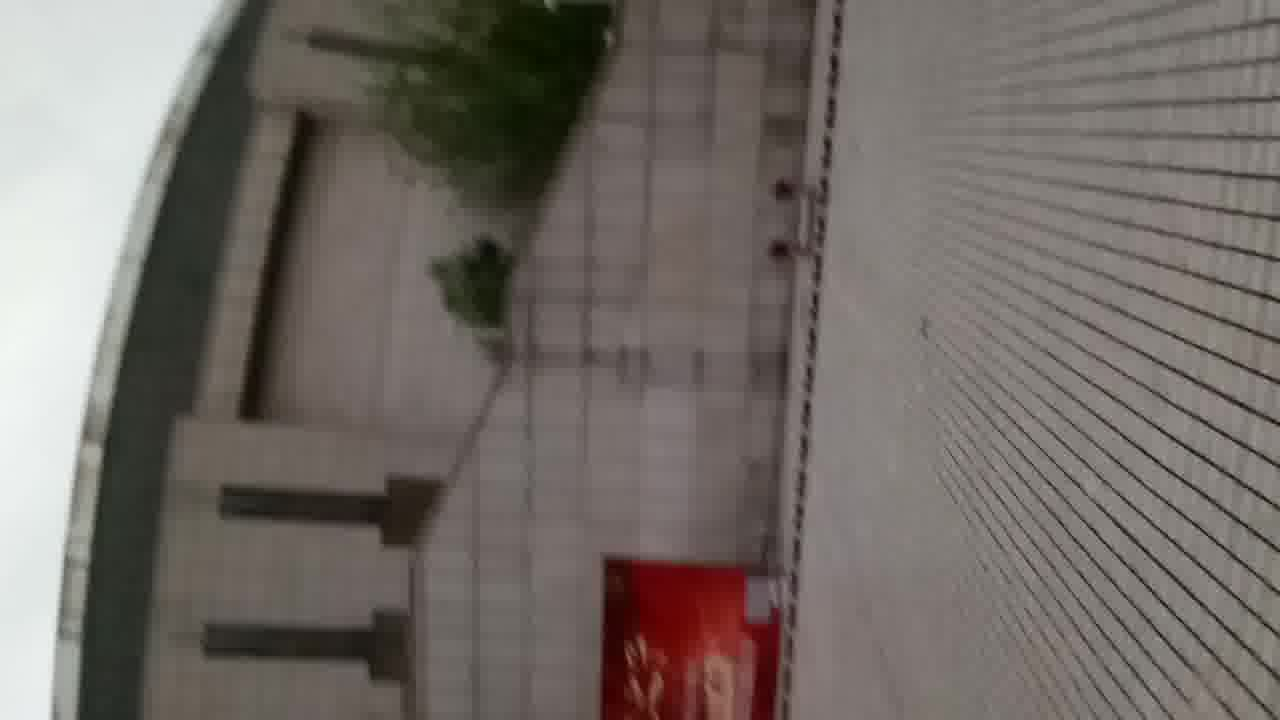zhongtiww: (45, 10, 825, 720)
